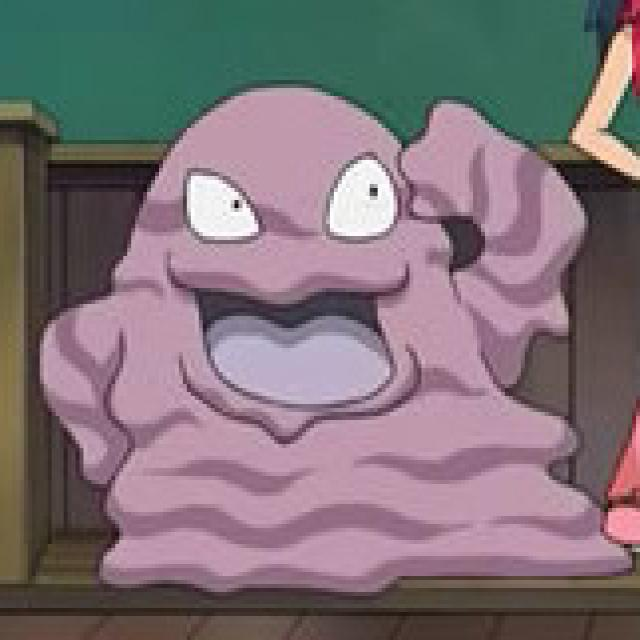Grimer: (46, 76, 569, 601)
